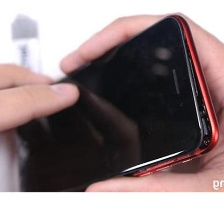phone: (0, 11, 221, 209)
